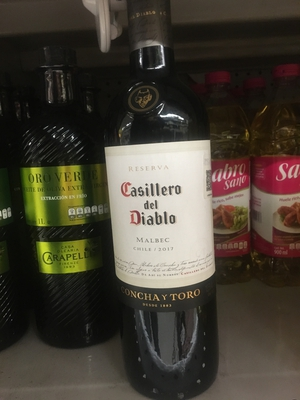casillero del diablo malbec: (95, 14, 220, 380)
